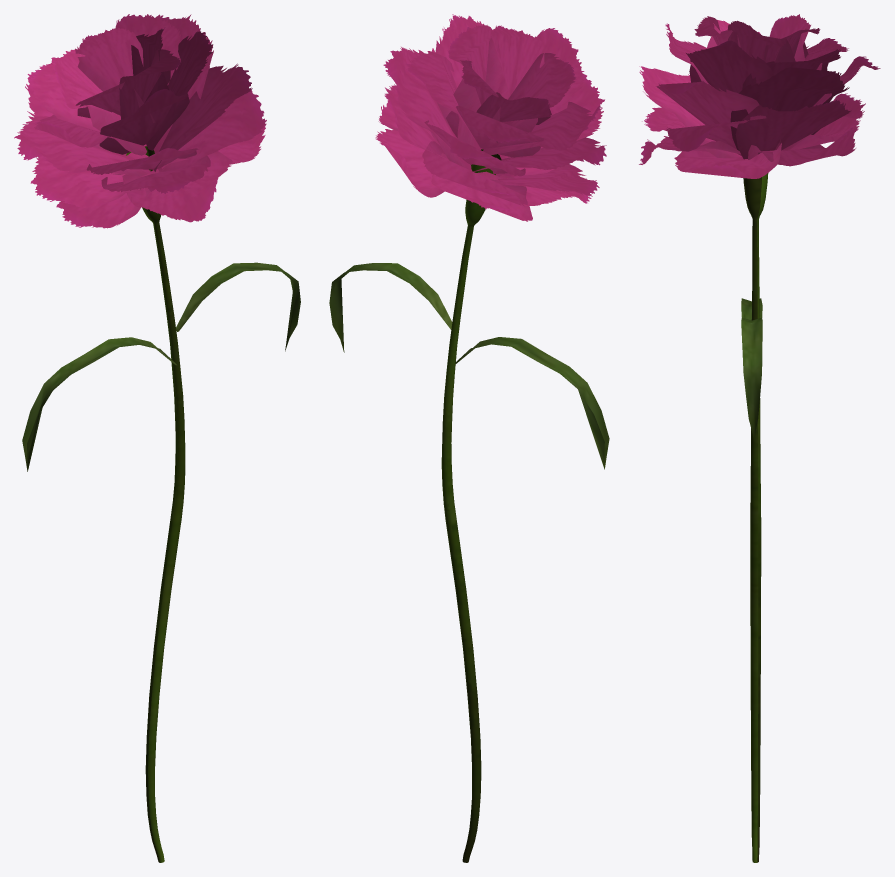
Rendered from carnation.glb.
3 renders of one model, left to right at view 1: azimuth 30°, elevation 25°; view 2: azimuth 150°, elevation 25°; view 3: azimuth 270°, elevation 25°, orthographic.
Visible parts, largest first — view 1: Object_12, Object_4, Object_6; view 2: Object_12, Object_4, Object_6; view 3: Object_12, Object_4, Object_6.
Boxes of the visible parts, x1,y1,x2,y2 form: Object_12: (14,14,266,228); Object_4: (126,146,185,862); Object_6: (22,262,300,471); Object_12: (375,14,606,221); Object_4: (441,149,501,862); Object_6: (329,263,609,469); Object_12: (639,14,880,178); Object_4: (743,173,768,862); Object_6: (741,298,762,440).
Bounding box in the file's own units: 9.67 × 28.19 × 7.4.
3 materials, 3 textured.
